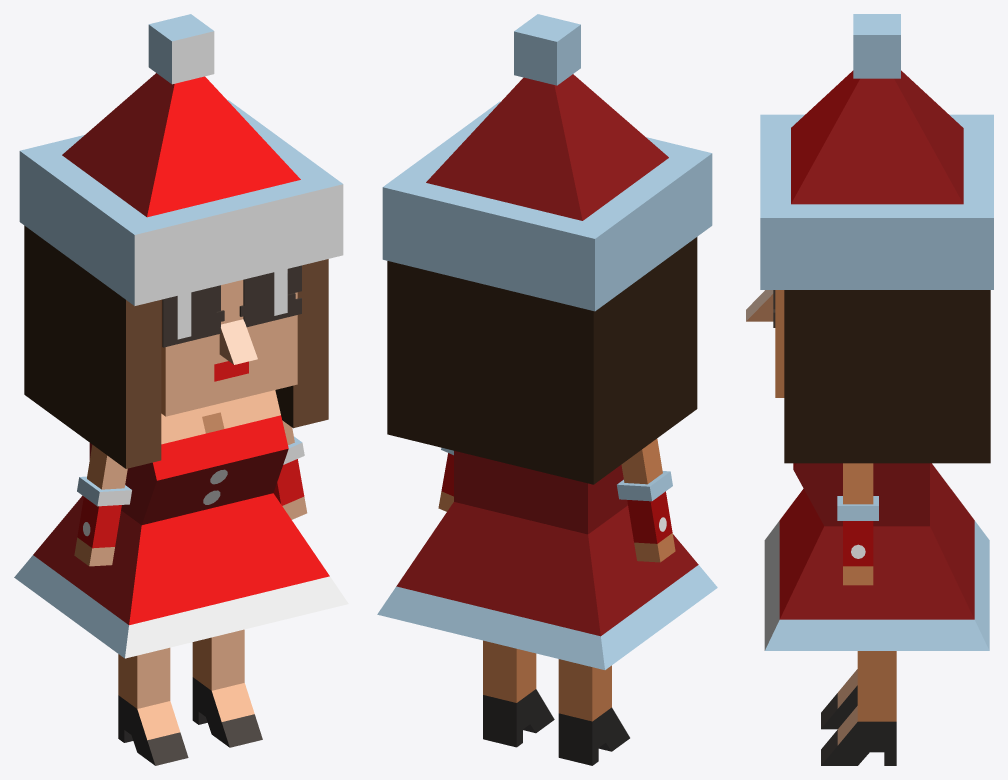
The picture shows the model from 3 angles, left to right: view 1: azimuth 30°, elevation 25°; view 2: azimuth 150°, elevation 25°; view 3: azimuth 270°, elevation 25°; orthographic projection.
Visible parts, largest first — view 1: Ch_177_Head, Ch_177, Ch_177_Chest, Ch_177_Leg_L, Ch_177_Leg_R, Ch_177_Hand_L, Ch_177_Eye_01, Ch_177_Hand_R, Ch_177_Eye_03_R, Ch_177_Eye_03_L; view 2: Ch_177_Head, Ch_177, Ch_177_Chest, Ch_177_Leg_L, Ch_177_Leg_R, Ch_177_Hand_L, Ch_177_Hand_R; view 3: Ch_177_Head, Ch_177, Ch_177_Leg_R, Ch_177_Chest, Ch_177_Hand_R, Ch_177_Leg_L.
Part boxes in pixels (x1,y1,x2,y2): Ch_177_Head: (19,14,343,468); Ch_177: (14,493,348,658); Ch_177_Chest: (89,390,288,525); Ch_177_Leg_L: (118,647,188,765); Ch_177_Leg_R: (192,629,262,747); Ch_177_Hand_L: (74,444,131,566); Ch_177_Eye_01: (177,269,287,339); Ch_177_Hand_R: (273,420,307,519); Ch_177_Eye_03_R: (243,265,301,327); Ch_177_Eye_03_L: (162,285,220,347); Ch_177_Head: (382,14,712,484); Ch_177: (377,502,717,669); Ch_177_Chest: (454,451,627,534); Ch_177_Leg_L: (558,659,629,765); Ch_177_Leg_R: (483,640,554,747); Ch_177_Hand_L: (617,438,675,562); Ch_177_Hand_R: (438,447,453,511); Ch_177_Head: (746,14,993,463); Ch_177: (764,463,989,650); Ch_177_Leg_R: (821,651,896,765); Ch_177_Chest: (793,463,929,526); Ch_177_Hand_R: (837,463,878,585); Ch_177_Leg_L: (821,669,857,729).
Size of the model in its own units: 4.35 by 13.08 by 4.11.
